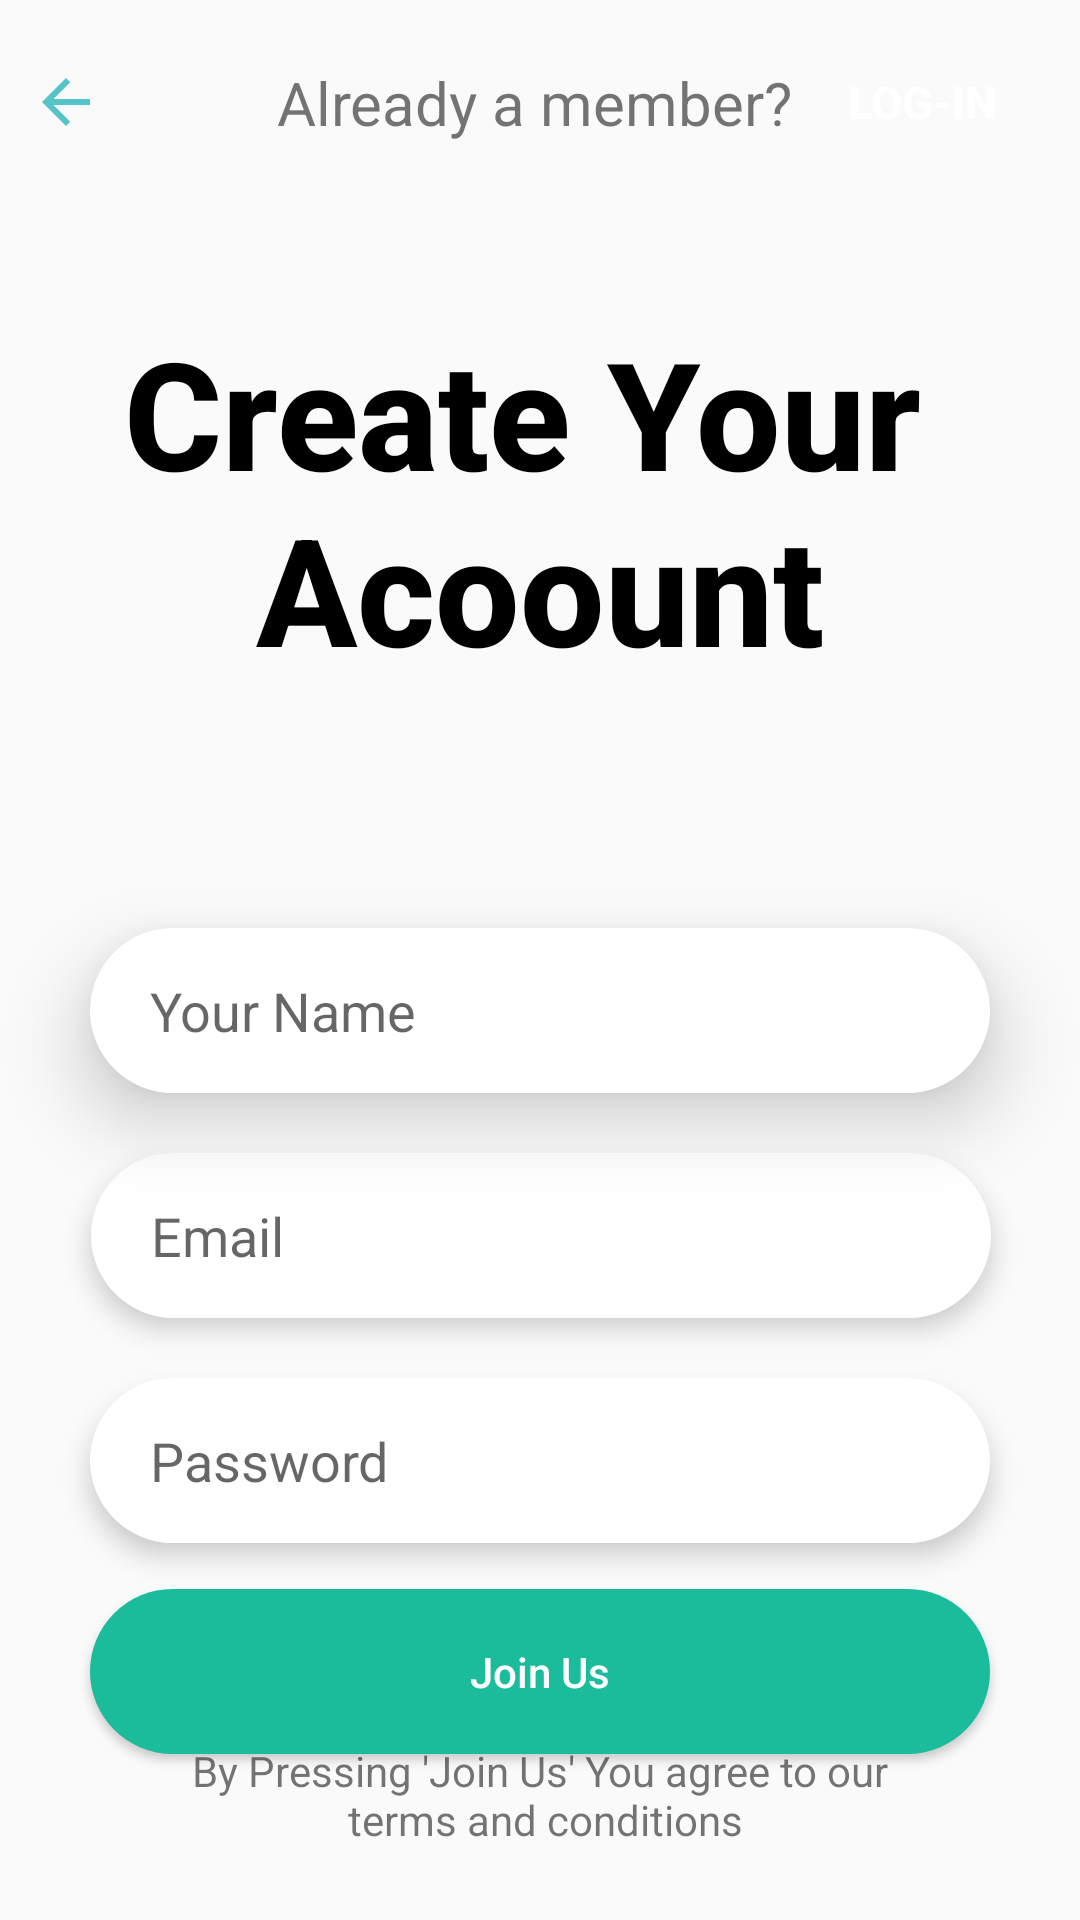

Where to tap for icons on this 1080 x 1920 app screen, as (x=x, y=y):
Back arrow image: (x=66, y=102)
